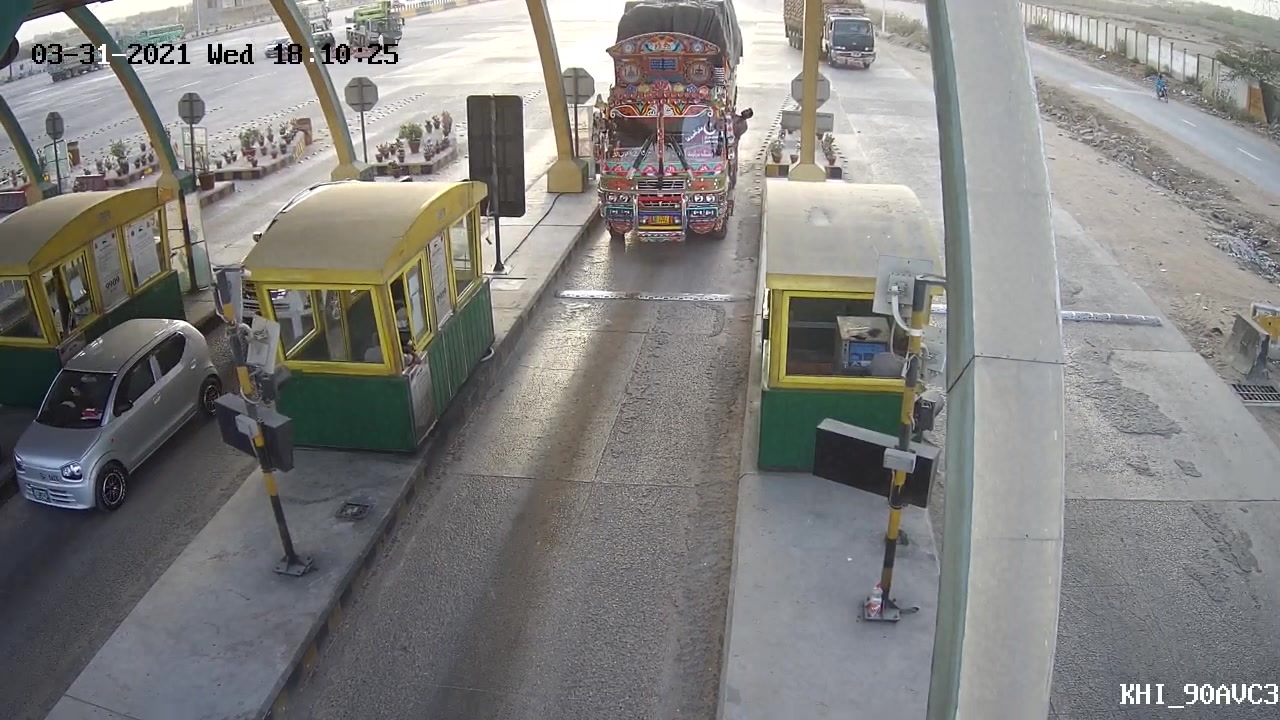F5: (578, 18, 754, 253)
